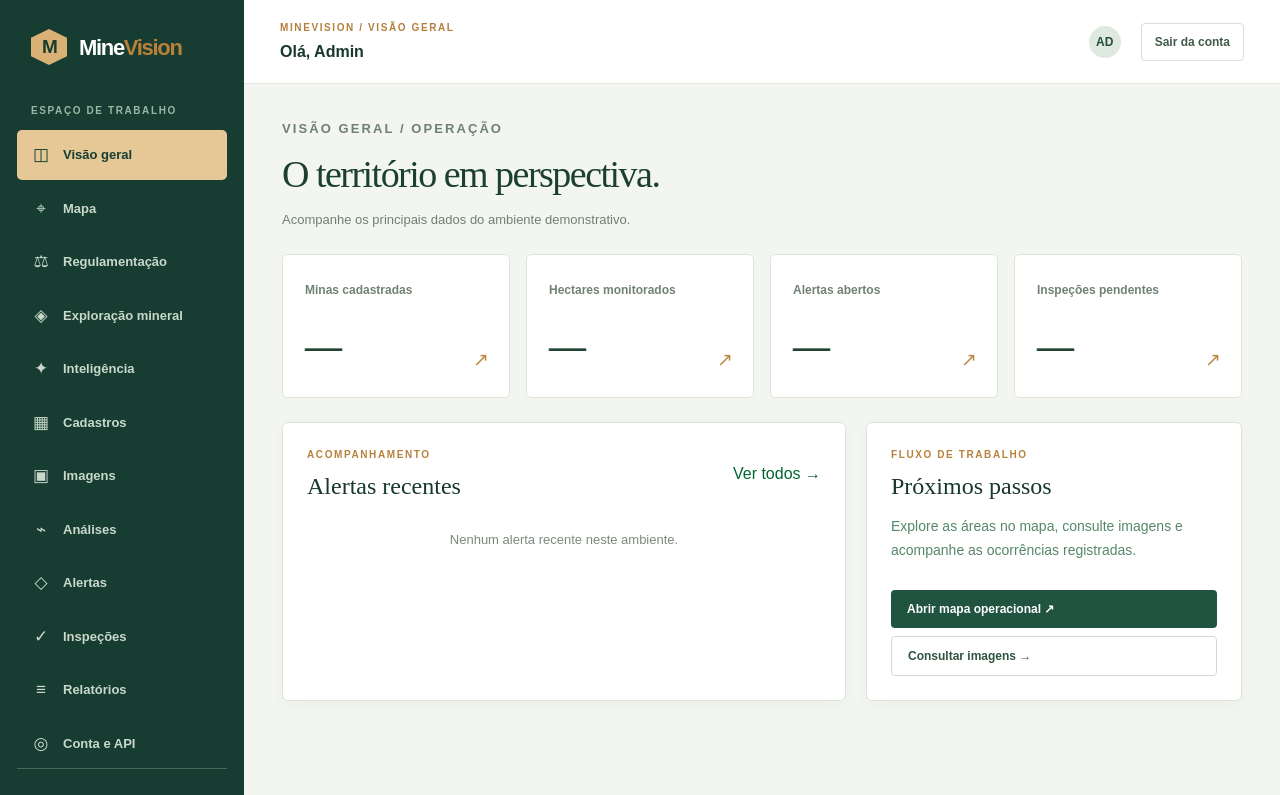
Test: regulation module › centralizes regulatory records outside the generic registrations
Click the button "⚖ Regulamentação" at (122, 262), box [17,237,227,286]
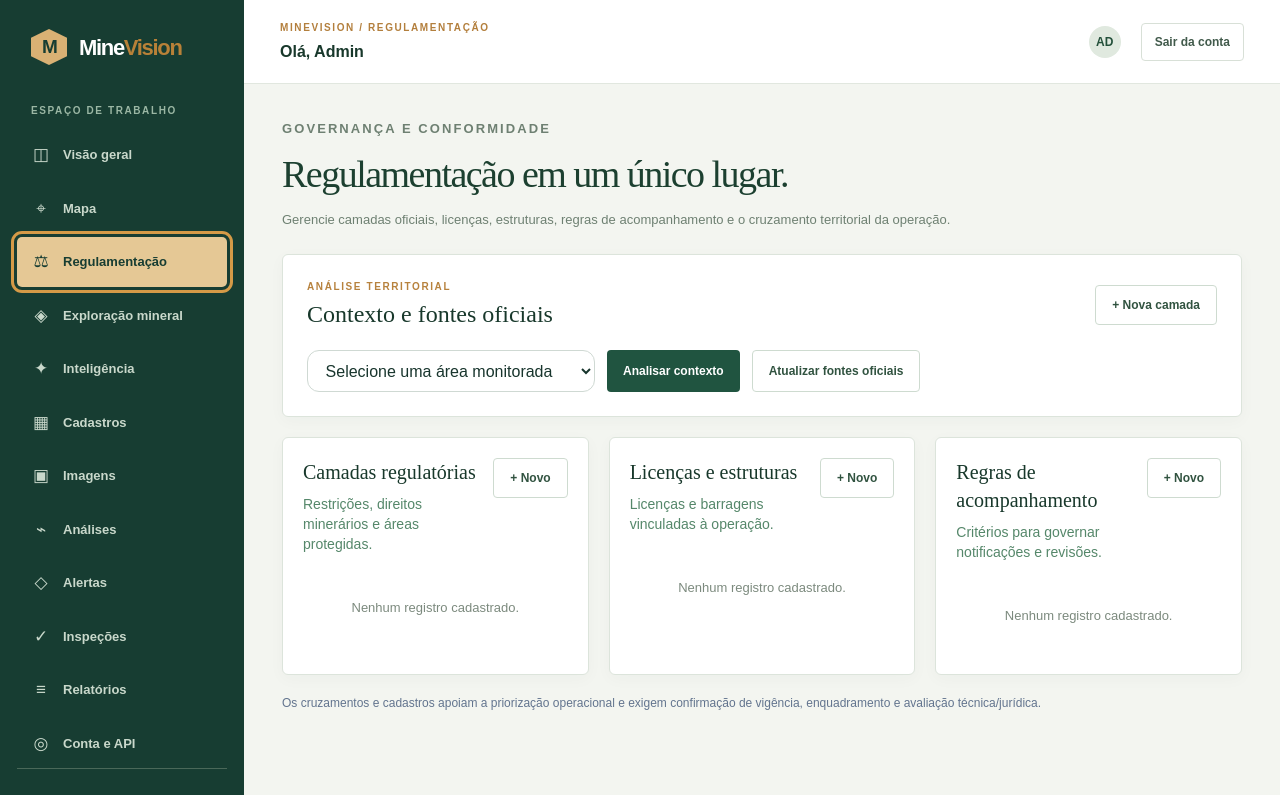
Now the heading "Regulamentação em um único lugar." is shown, box [282,152,788,194]
Now the heading "Camadas regulatórias" is shown, box [303,458,481,486]
Now the heading "Licenças e estruturas" is shown, box [630,458,808,486]
